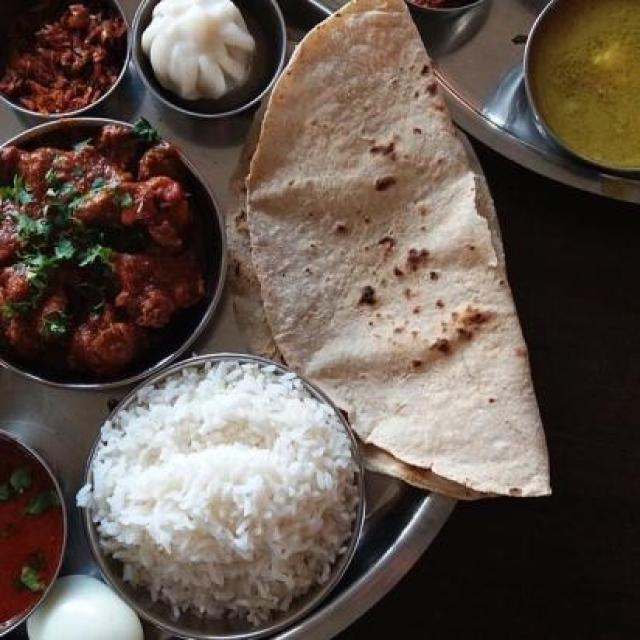Rice: (85, 373, 362, 622)
alooparatha-chapati: (245, 24, 581, 493)
